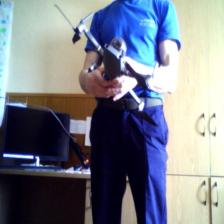drone: (60, 10, 167, 114)
